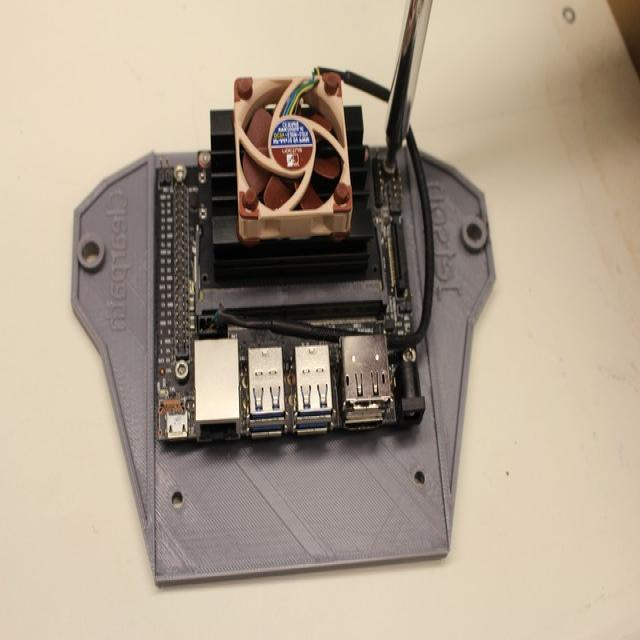Jetson Nano: (159, 106, 427, 442)
